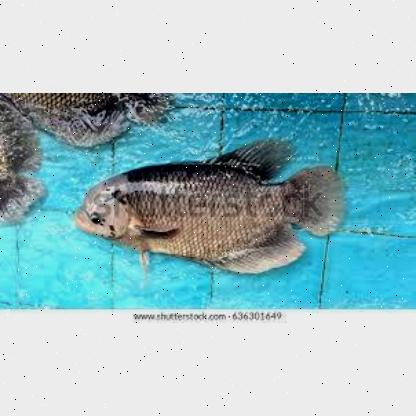gurame: (71, 154, 325, 276)
